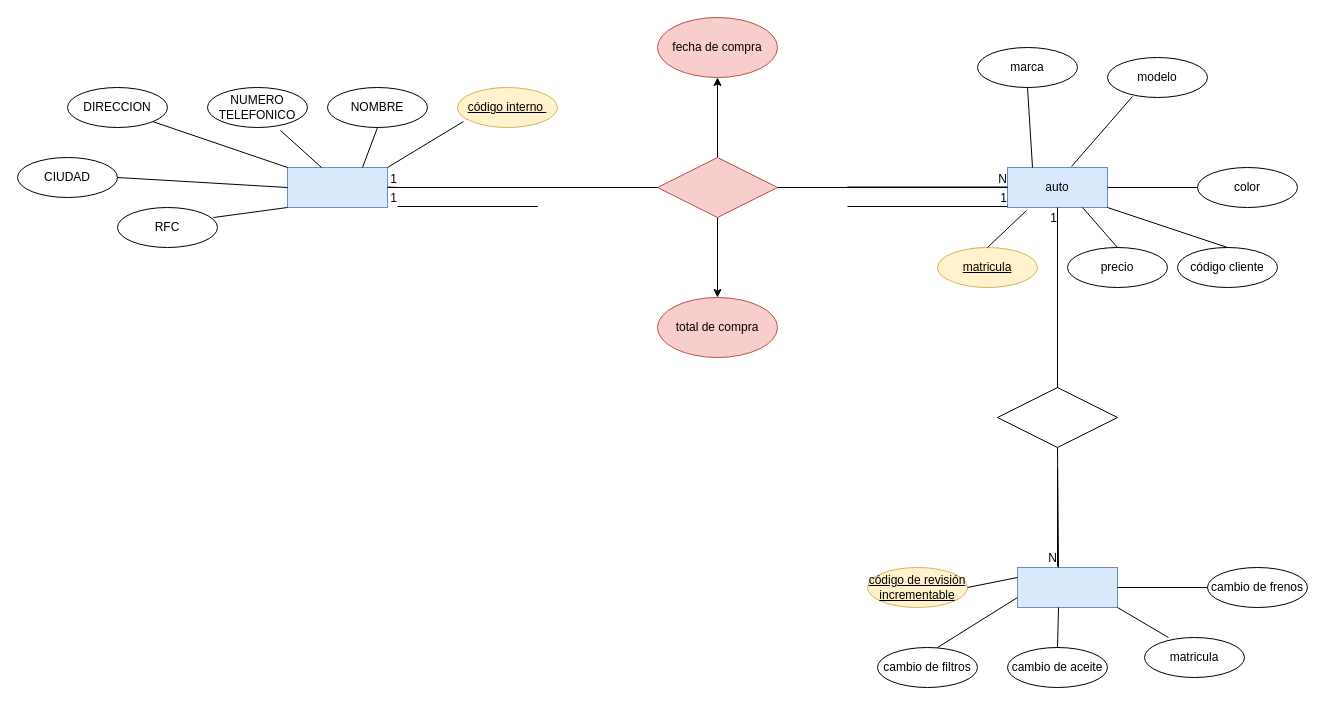
Image size: 1325x705. Some labels were removed from this diagram. The shapes that lost their labels are listed below. From the top down, each one's centre as x and y in pixels, then its label:
point 337,187: cliente
point 717,187: compra
point 1057,417: realiza
point 1067,587: revision
